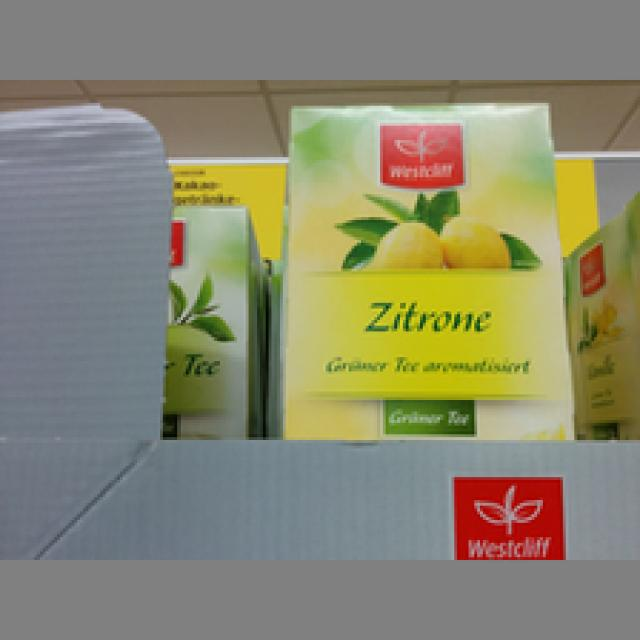groceries: (272, 97, 574, 437)
